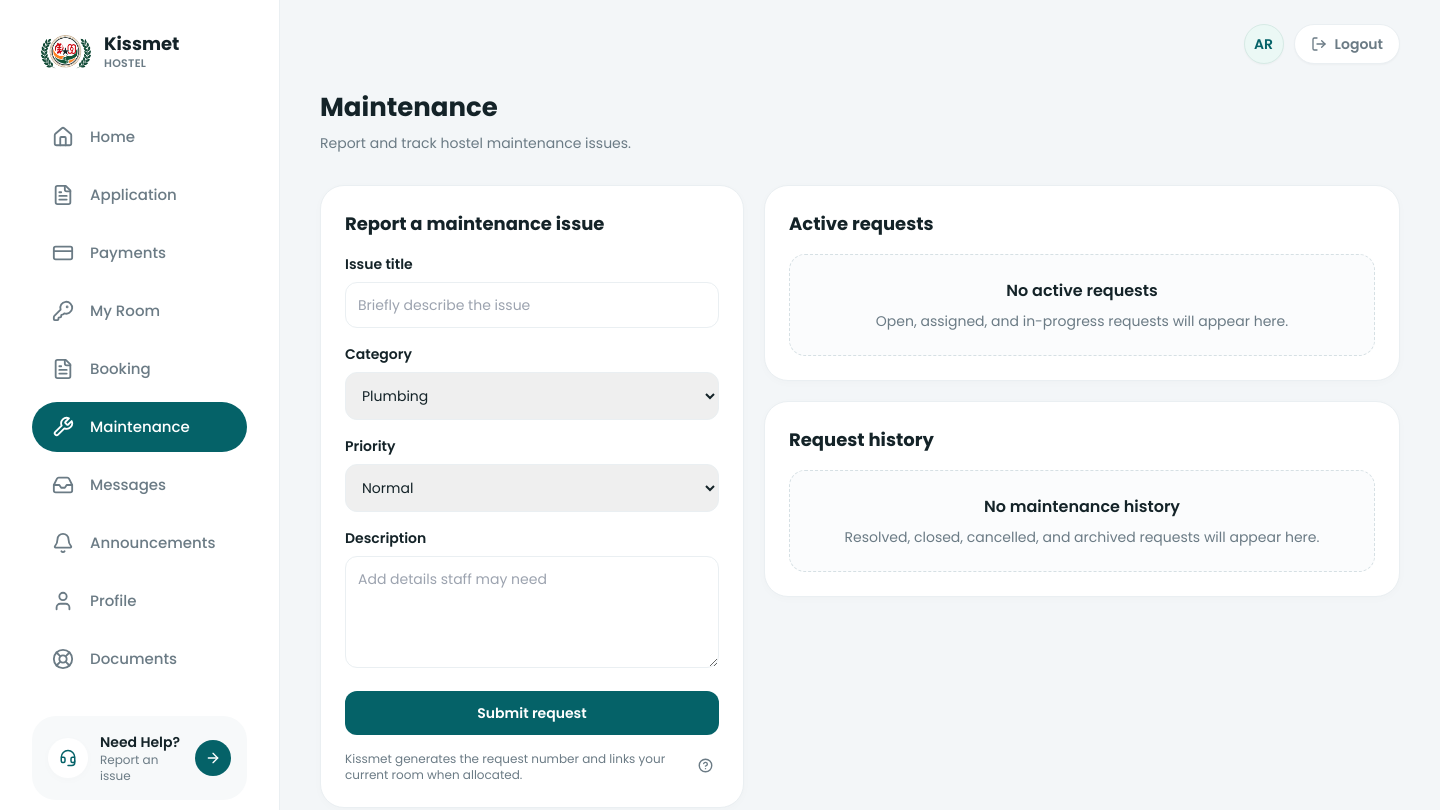
Test: resident maintenance › creates a request with backend-generated number and no ownership fields
The image size is (1440, 810).
Type "Broken tap" into the field labelled "Issue title". click: (532, 305)
box: [345, 282, 719, 328]
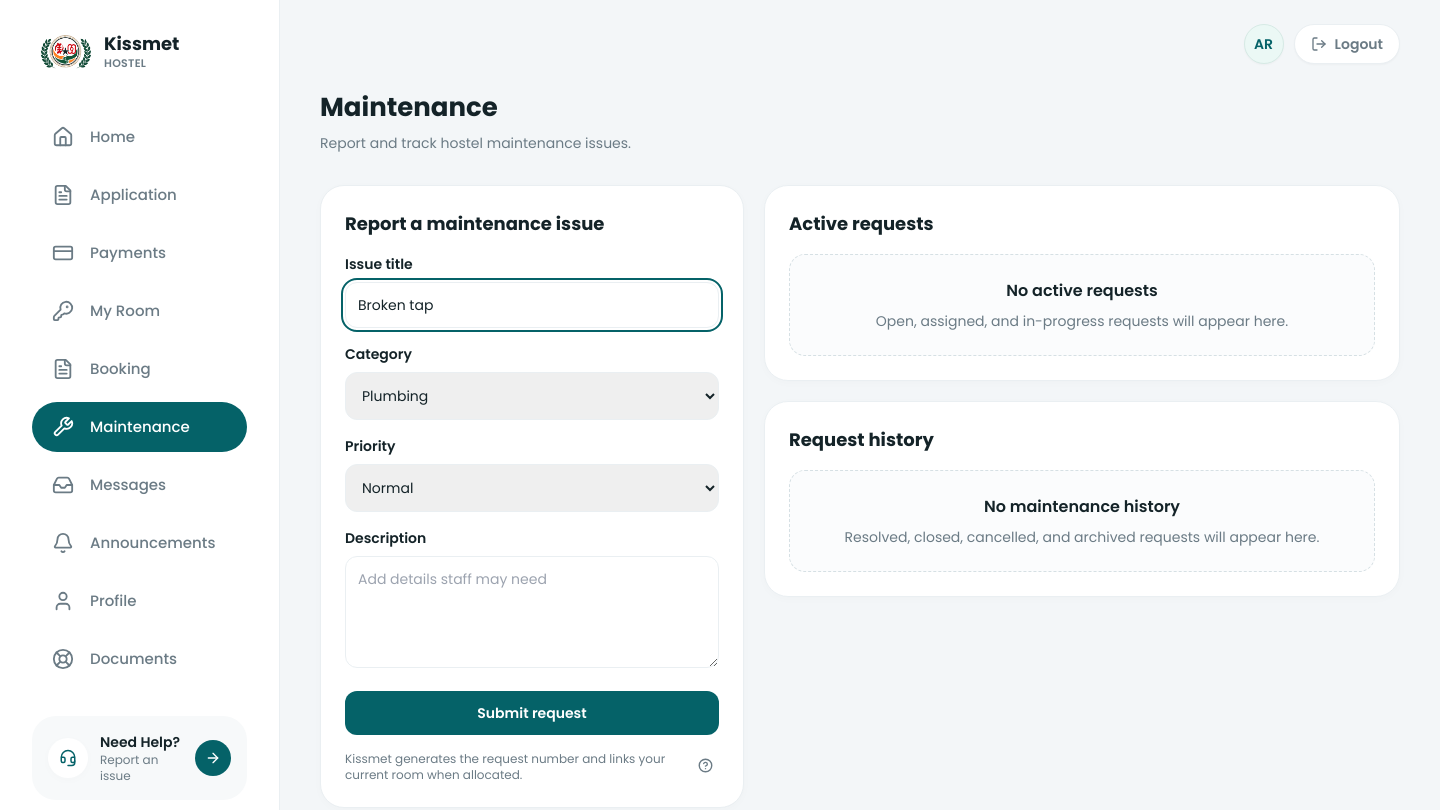
Select "Plumbing" in the dropdown labelled "Category". click: (532, 396)
box: [345, 372, 719, 420]
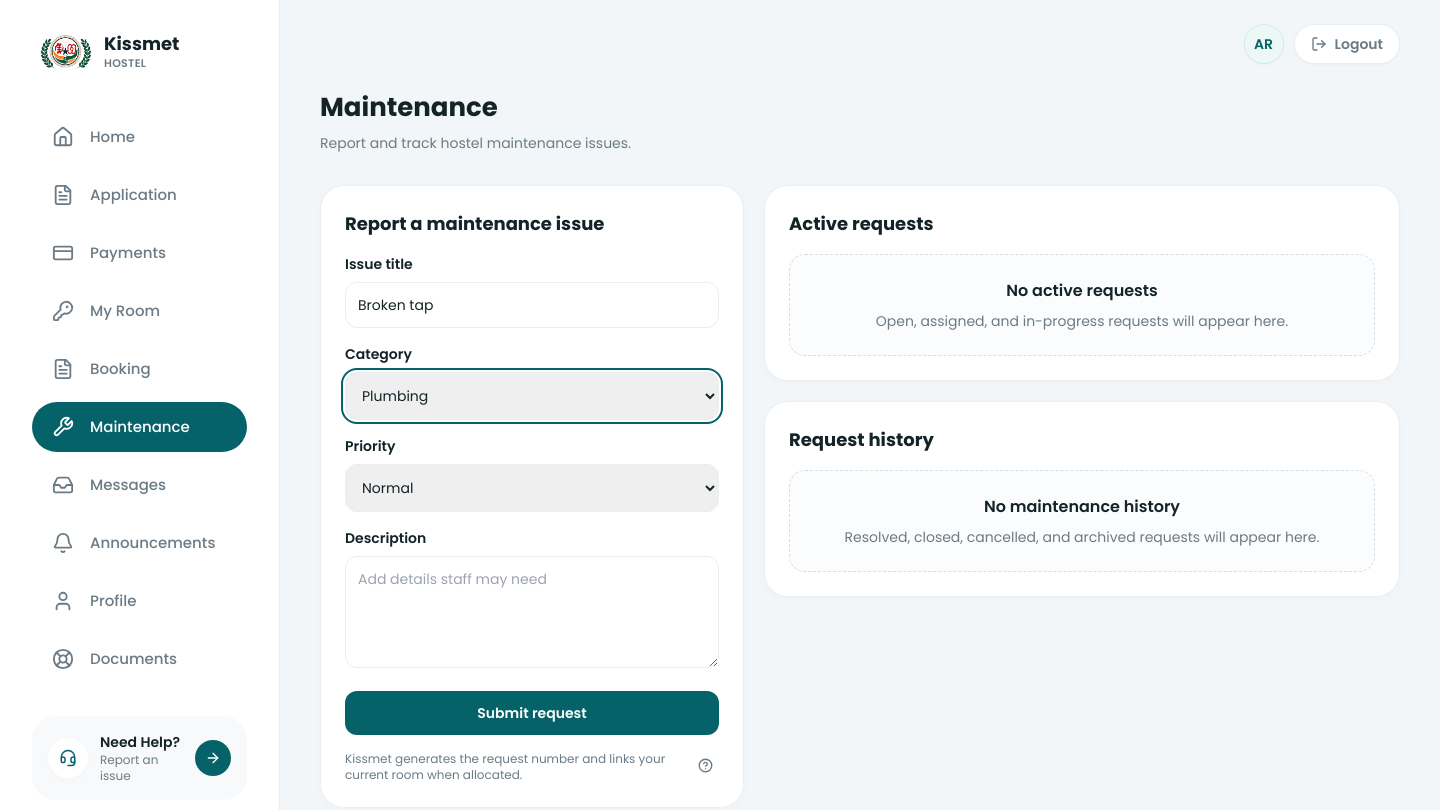
Select "Urgent" in the dropdown labelled "Priority". click: (532, 488)
box: [345, 464, 719, 512]
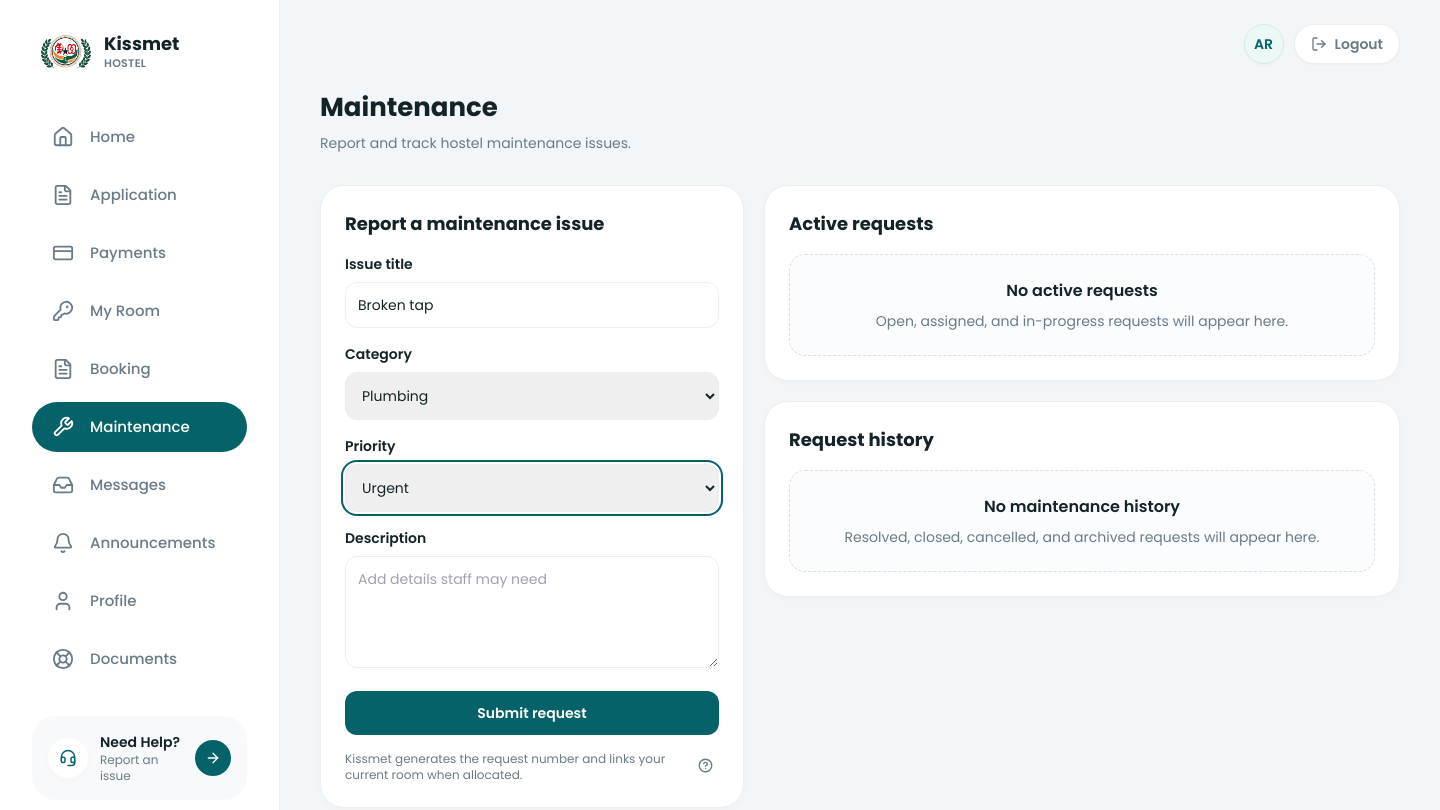
Type "Water is leaking under the sink." into the text box labelled "Description". click: (532, 612)
box: [345, 556, 719, 668]
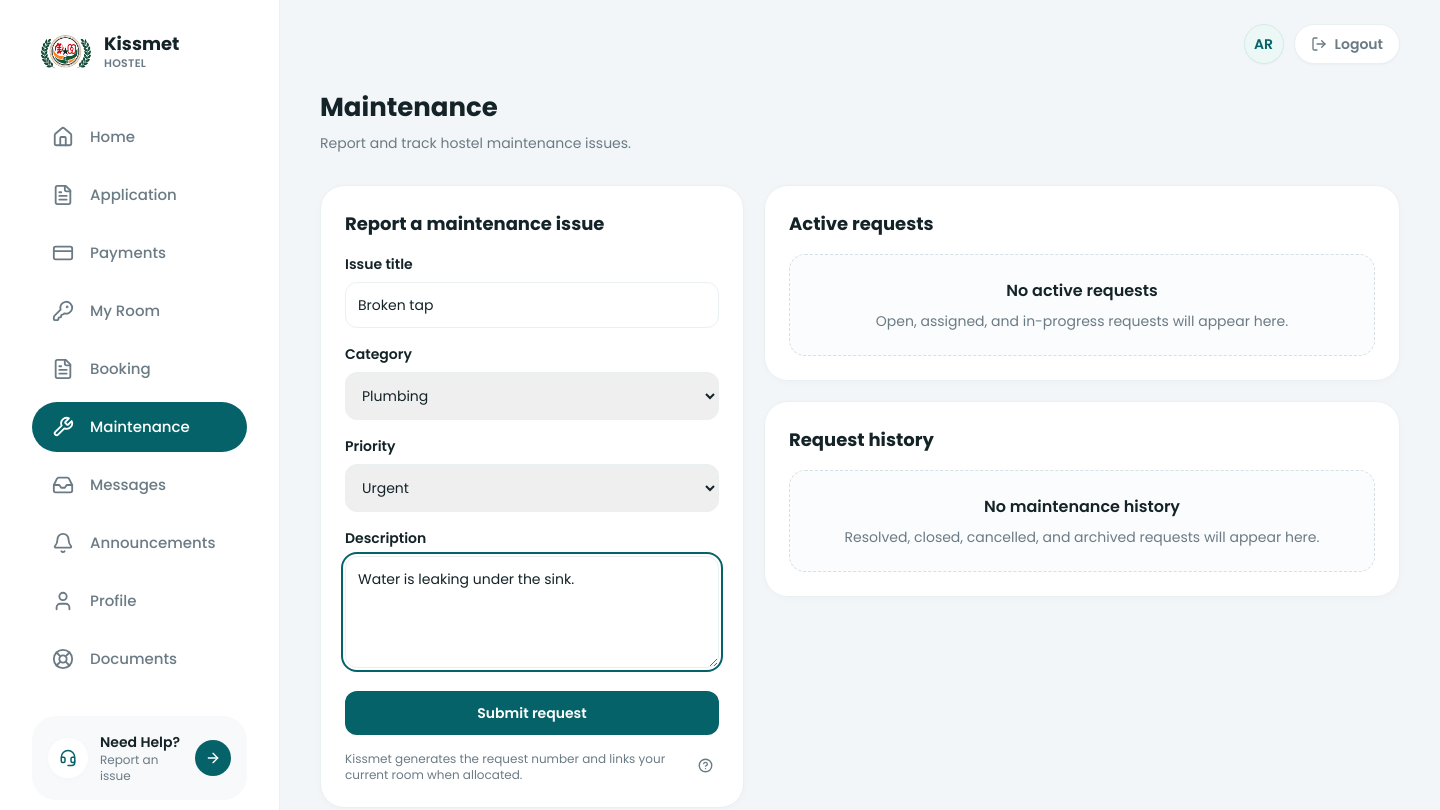
Click the button "Submit request". click: (532, 713)
box: [345, 691, 719, 735]
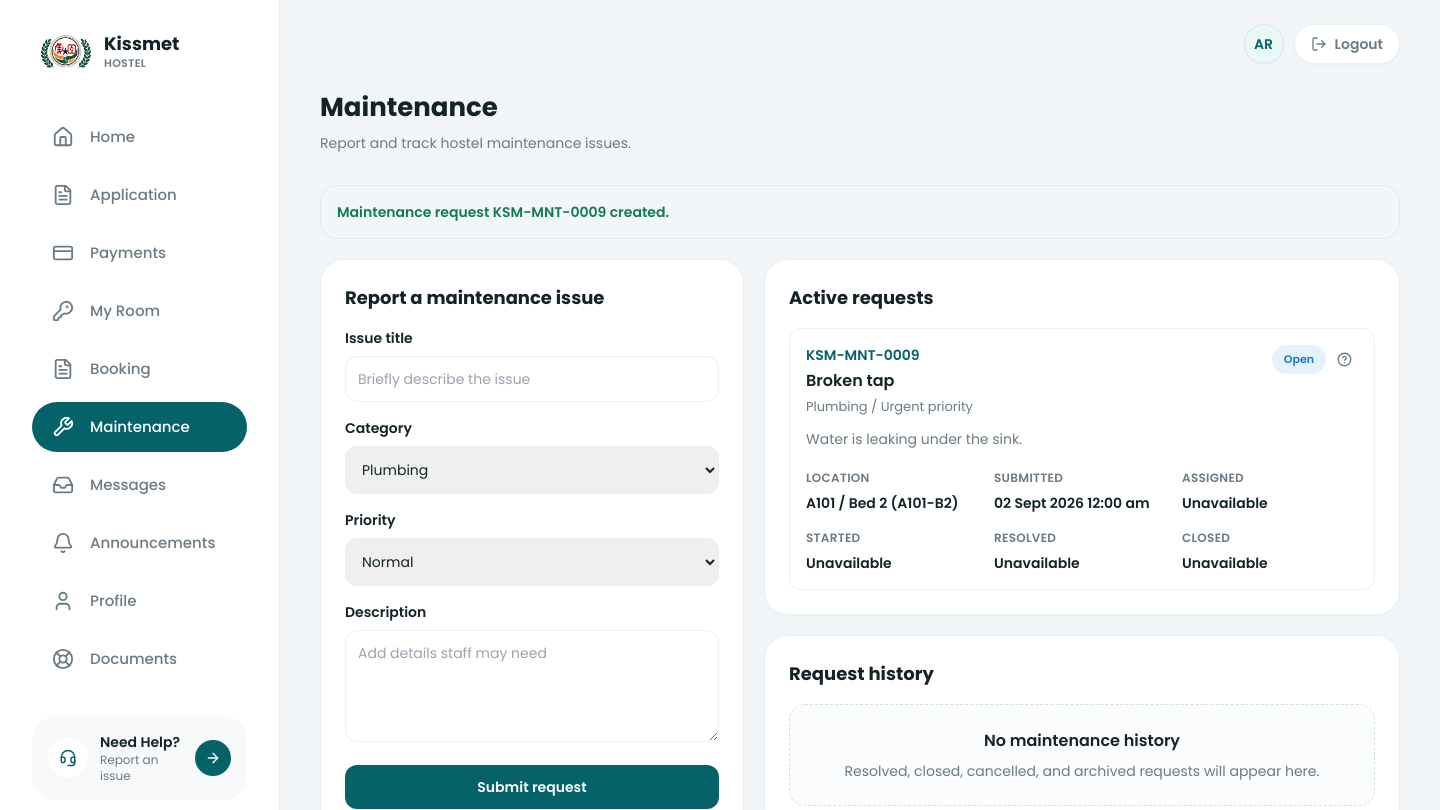
expect the text "Open" is shown: met, box [1272, 345, 1326, 374]
expect the text "Maintenance request KSM-MNT-0009 created." is shown: met, box [320, 185, 1400, 239]
expect the text "KSM-MNT-0009" is shown: met, box [806, 345, 920, 365]
